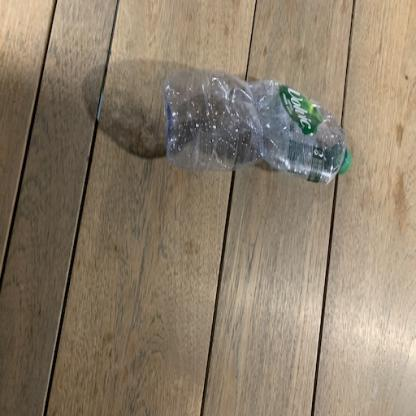trash: (154, 64, 352, 192)
